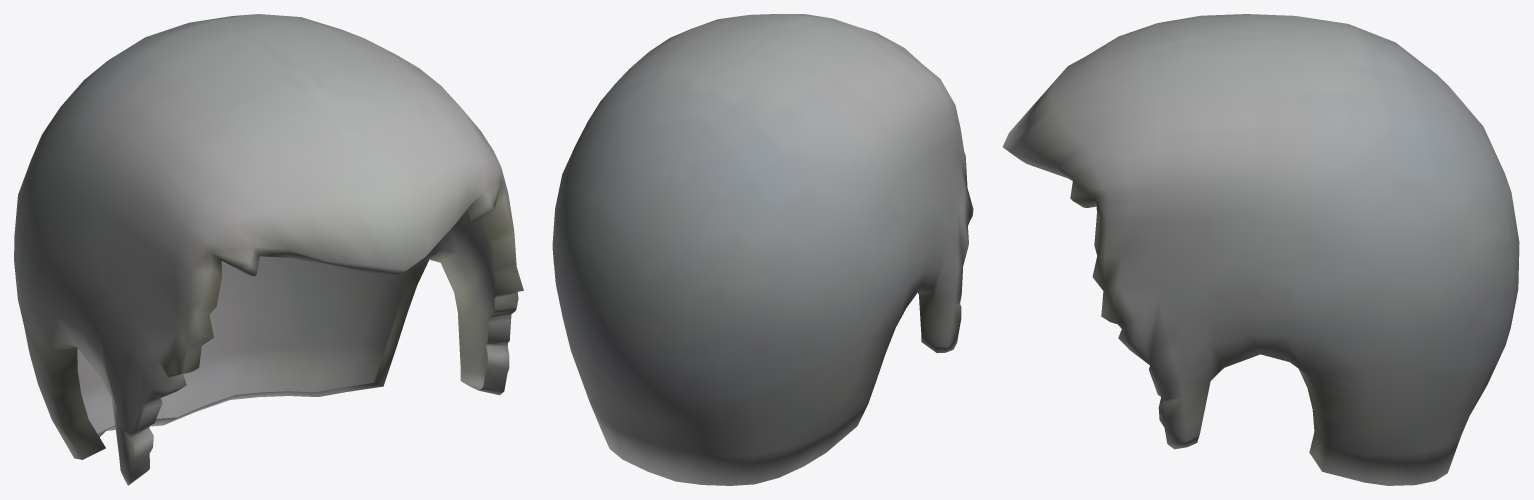
Rendered from web_Hair_Buzzed.glb.
3 views of the same model, side by side, from view 1: azimuth 30°, elevation 25°; view 2: azimuth 150°, elevation 25°; view 3: azimuth 270°, elevation 25° (orthographic). The views are drawn at different scales.
Visible parts, largest first — view 1: Hair_Buzzed; view 2: Hair_Buzzed; view 3: Hair_Buzzed.
Boxes of the visible parts, bbox=[...] form: Hair_Buzzed: bbox=[14, 14, 523, 485]; Hair_Buzzed: bbox=[552, 14, 973, 485]; Hair_Buzzed: bbox=[1002, 14, 1519, 485].
Bounding box in the file's own units: 0.1546 × 0.1694 × 0.1909.
1 material, 1 textured.
